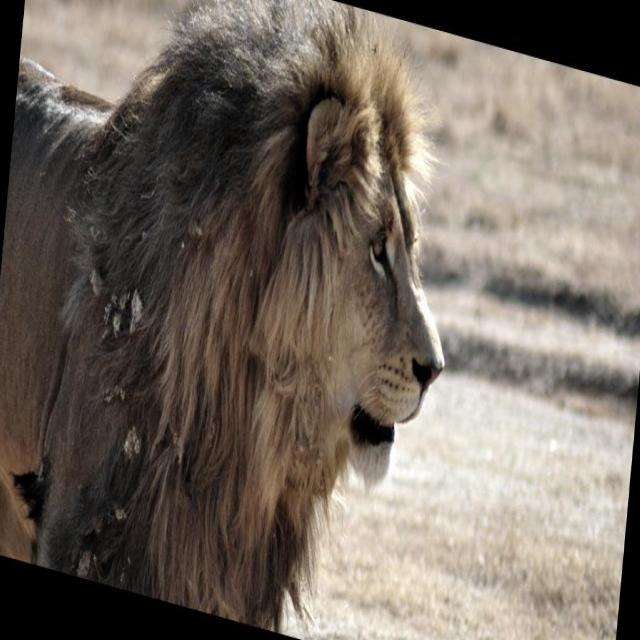Lion: (0, 0, 474, 639)
